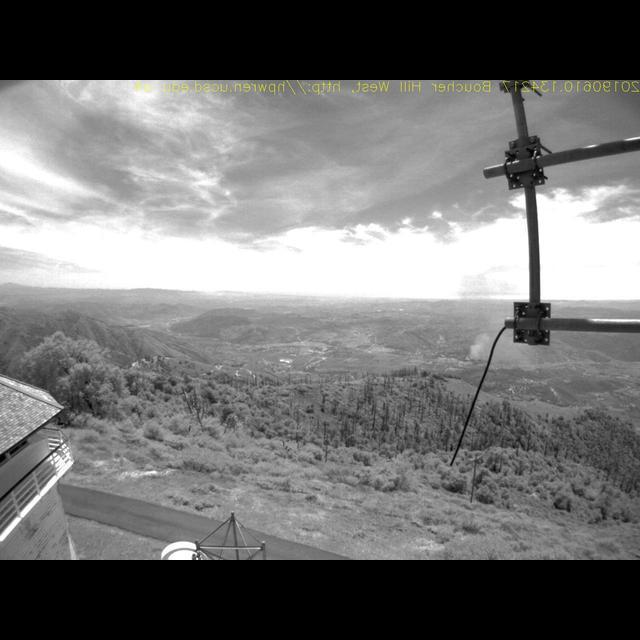Smoke: (463, 284, 517, 369)
